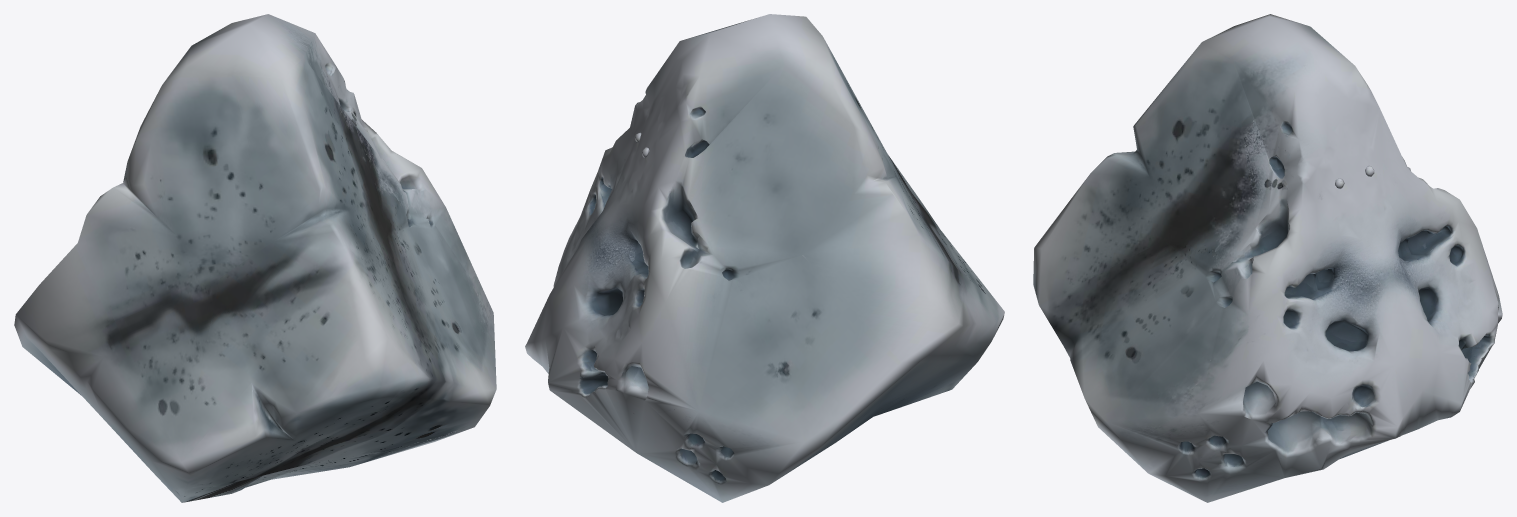
Rendered from original_glb.glb.
3 renders of one model, left to right at view 1: azimuth 30°, elevation 25°; view 2: azimuth 150°, elevation 25°; view 3: azimuth 270°, elevation 25°, orthographic. The views are drawn at different scales.
Parts seen in each view (by area): view 1: Dirty Ice Fragment; view 2: Dirty Ice Fragment; view 3: Dirty Ice Fragment.
Part boxes in pixels (<box>): Dirty Ice Fragment: <box>14,14,496,502</box>; Dirty Ice Fragment: <box>525,14,1004,502</box>; Dirty Ice Fragment: <box>1033,14,1502,502</box>.
Bounding box in the file's own units: 0.9277 × 0.998 × 0.9629.
Materials: 1 (1 with a texture image).
